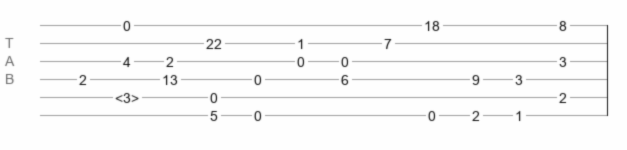0: (123, 18, 131, 28), (210, 90, 218, 100), (254, 108, 262, 118), (254, 72, 262, 82), (297, 54, 305, 64), (341, 54, 349, 64), (428, 108, 436, 118)
1: (297, 36, 305, 46), (515, 108, 523, 118)
13: (162, 72, 178, 82)
18: (424, 18, 440, 28)
2: (79, 72, 87, 82), (166, 54, 174, 64), (472, 108, 480, 118), (559, 90, 567, 100)
22: (206, 36, 222, 46)
3: (515, 72, 523, 82), (559, 54, 567, 64)
4: (123, 54, 131, 64)
5: (210, 108, 218, 118)
6: (341, 72, 349, 82)
7: (384, 36, 392, 46)
8: (559, 18, 567, 28)
9: (472, 72, 480, 82)
harmonic: (115, 90, 139, 100)
